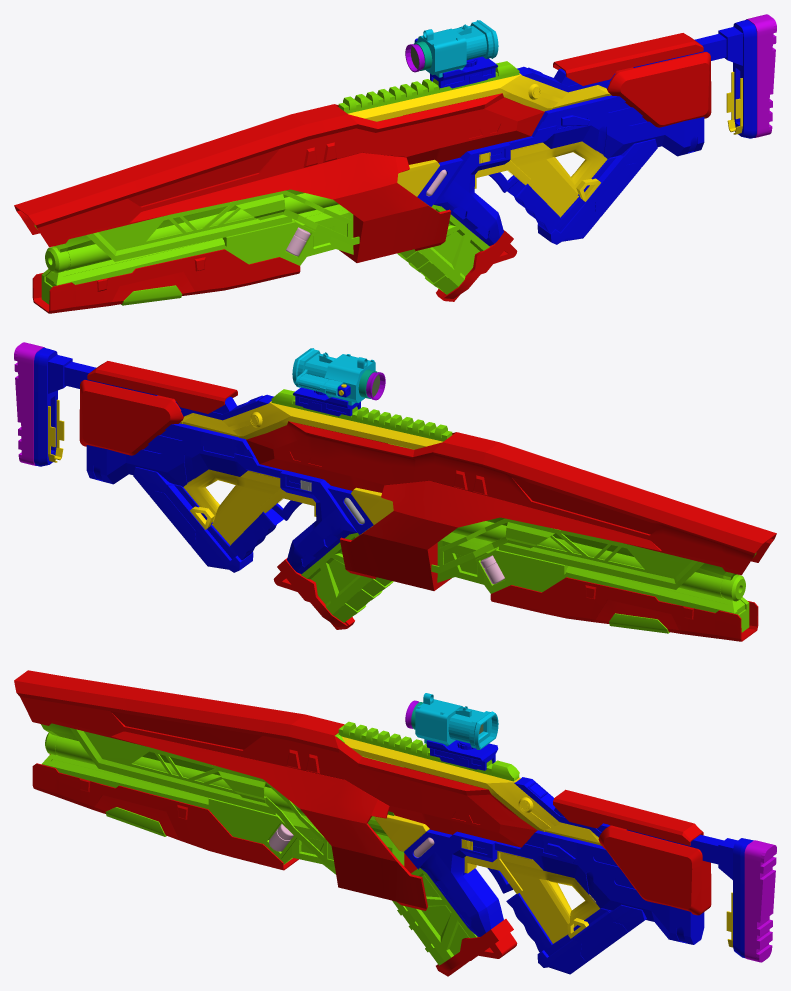
Rendered from Futuristic_Rifle.gltf.
The picture shows the model from 3 angles, top to bottom: view 1: azimuth 30°, elevation 25°; view 2: azimuth 150°, elevation 25°; view 3: azimuth 330°, elevation 25°; orthographic projection.
Parts seen in each view (by area): view 1: pCube1, pCube2, pCylinder1, polySurface1, pCube12, pCube18, pCube4, pCube7, pCube14, pCube9, pCube22, pCube13 (+16 smaller); view 2: pCube1, pCube2, pCylinder1, polySurface1, pCube12, pCube18, pCube4, pCube7, pCube14, pCube9, pCube22, pCube13 (+16 smaller); view 3: pCube1, pCube2, polySurface1, pCylinder1, pCube12, pCube18, pCube9, pCube4, pCube7, pCube14, pCube22, pCube26 (+16 smaller).
Part boxes in pixels (x1,y1,x2,y2): pCube1: (14, 93, 544, 247); pCube2: (129, 152, 451, 262); pCylinder1: (34, 115, 402, 304); polySurface1: (32, 249, 300, 313); pCube12: (507, 95, 704, 158); pCube18: (607, 52, 711, 127); pCube4: (86, 202, 292, 261); pCube7: (348, 73, 611, 121); pCube14: (510, 141, 607, 217); pCube9: (433, 142, 510, 245); pCube22: (553, 33, 703, 85); pCube13: (537, 139, 657, 244); pCube1: (246, 421, 776, 575); pCube2: (339, 480, 661, 590); pCylinder1: (388, 443, 756, 632); polySurface1: (490, 577, 758, 641); pCube12: (86, 423, 283, 486); pCube18: (79, 380, 183, 455); pCube4: (498, 530, 704, 589); pCube7: (179, 401, 442, 449); pCube14: (183, 469, 280, 545); pCube9: (280, 470, 357, 573); pCube22: (87, 361, 237, 413); pCube13: (133, 467, 253, 572); pCube1: (14, 670, 537, 847); pCube2: (111, 731, 427, 910); polySurface1: (32, 754, 298, 870); pCylinder1: (41, 723, 404, 874); pCube12: (495, 830, 704, 944); pCube18: (598, 825, 711, 915); pCube9: (420, 831, 503, 936); pCube4: (70, 728, 275, 814); pCube7: (342, 736, 601, 845); pCube14: (500, 852, 600, 943); pCube22: (553, 789, 703, 845); pCube26: (744, 840, 776, 962).
Bounding box in the file's own units: 0.3187 × 0.1117 × 0.0251.
